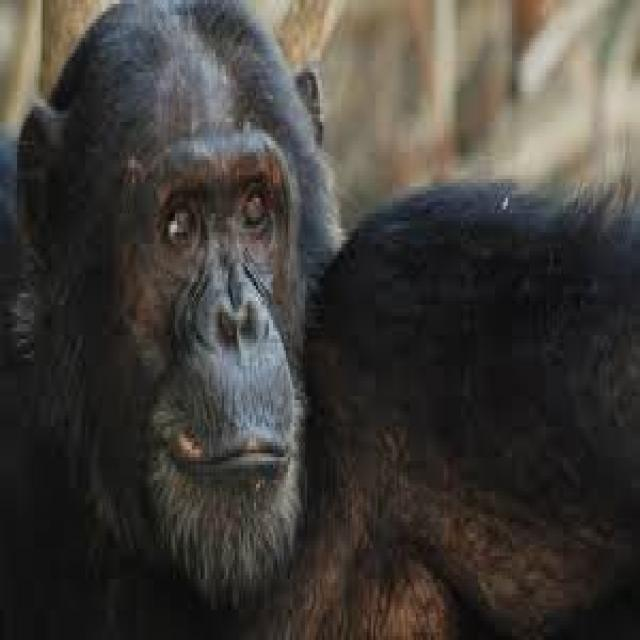Chimpanzee: (16, 0, 517, 620)
